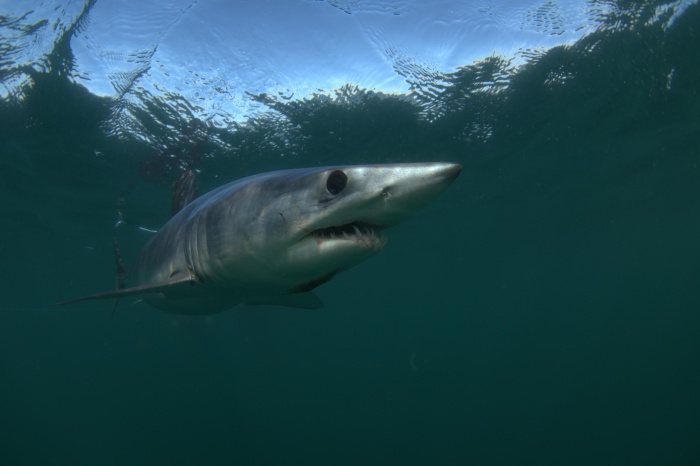Mako: (48, 128, 499, 335)
